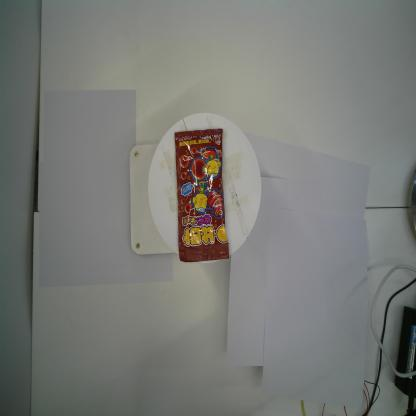Candy: (173, 128, 231, 264)
